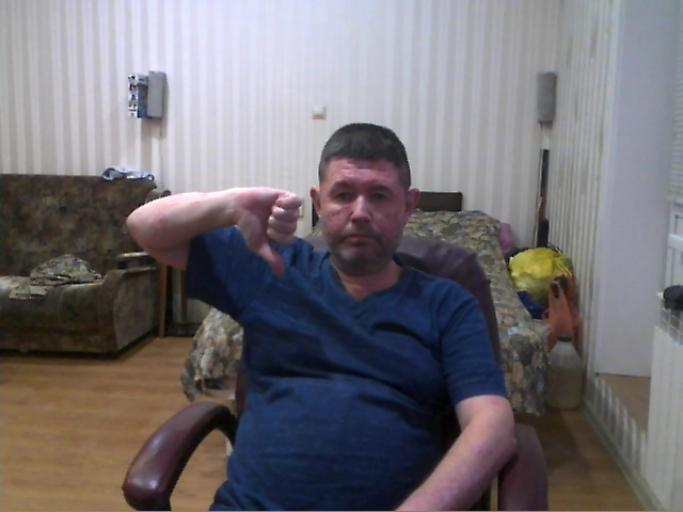dislike: (231, 181, 306, 278)
